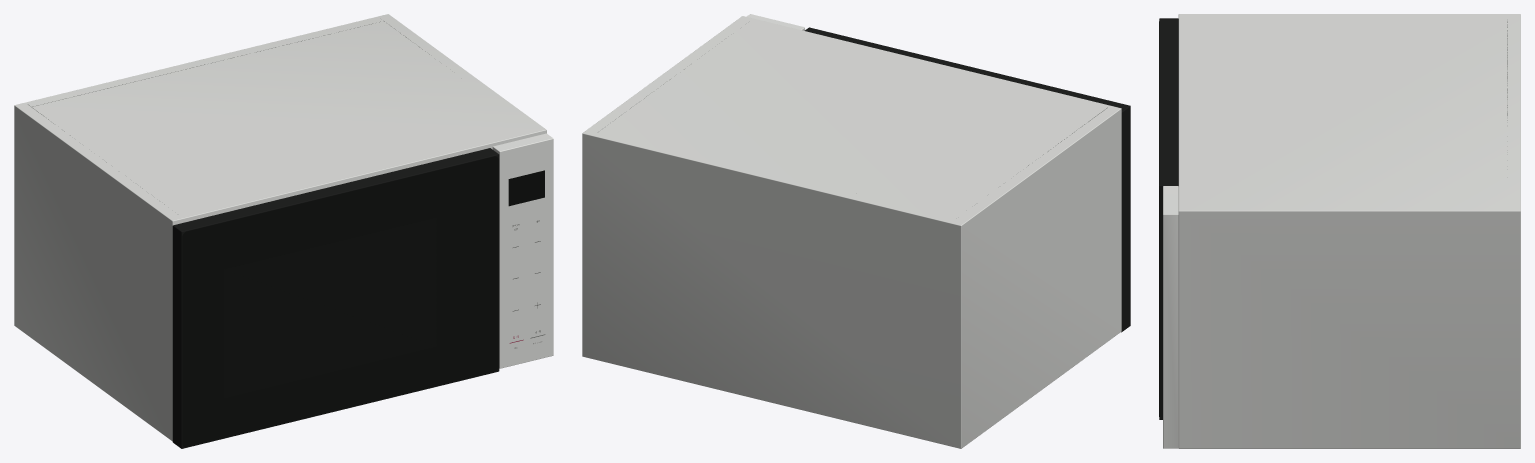
The model's file is MW23GDI.glb.
3 renders of one model, left to right at view 1: azimuth 30°, elevation 25°; view 2: azimuth 150°, elevation 25°; view 3: azimuth 270°, elevation 25°, orthographic. The views are drawn at different scales.
Parts seen in each view (by area): view 1: BodyShell, FullDoorGlass, SubtleWindow, ControlPanel, DoorBody, ControlDisplay; view 2: BodyShell, DoorBody; view 3: BodyShell, DoorBody, ControlPanel, FullDoorGlass.
Boxes of the visible parts, <box> form: BodyShell: <box>14,14,546,441</box>; FullDoorGlass: <box>182,156,498,447</box>; SubtleWindow: <box>224,217,436,398</box>; ControlPanel: <box>492,133,553,368</box>; DoorBody: <box>172,148,499,448</box>; ControlDisplay: <box>508,170,544,206</box>; BodyShell: <box>582,16,1121,448</box>; DoorBody: <box>804,27,1130,332</box>; BodyShell: <box>1178,14,1520,448</box>; DoorBody: <box>1159,18,1178,419</box>; ControlPanel: <box>1163,186,1178,448</box>; FullDoorGlass: <box>1159,21,1159,416</box>.
Size of the model in its own units: 0.476 by 0.272 by 0.369.
Materials: 10 (1 with a texture image).
